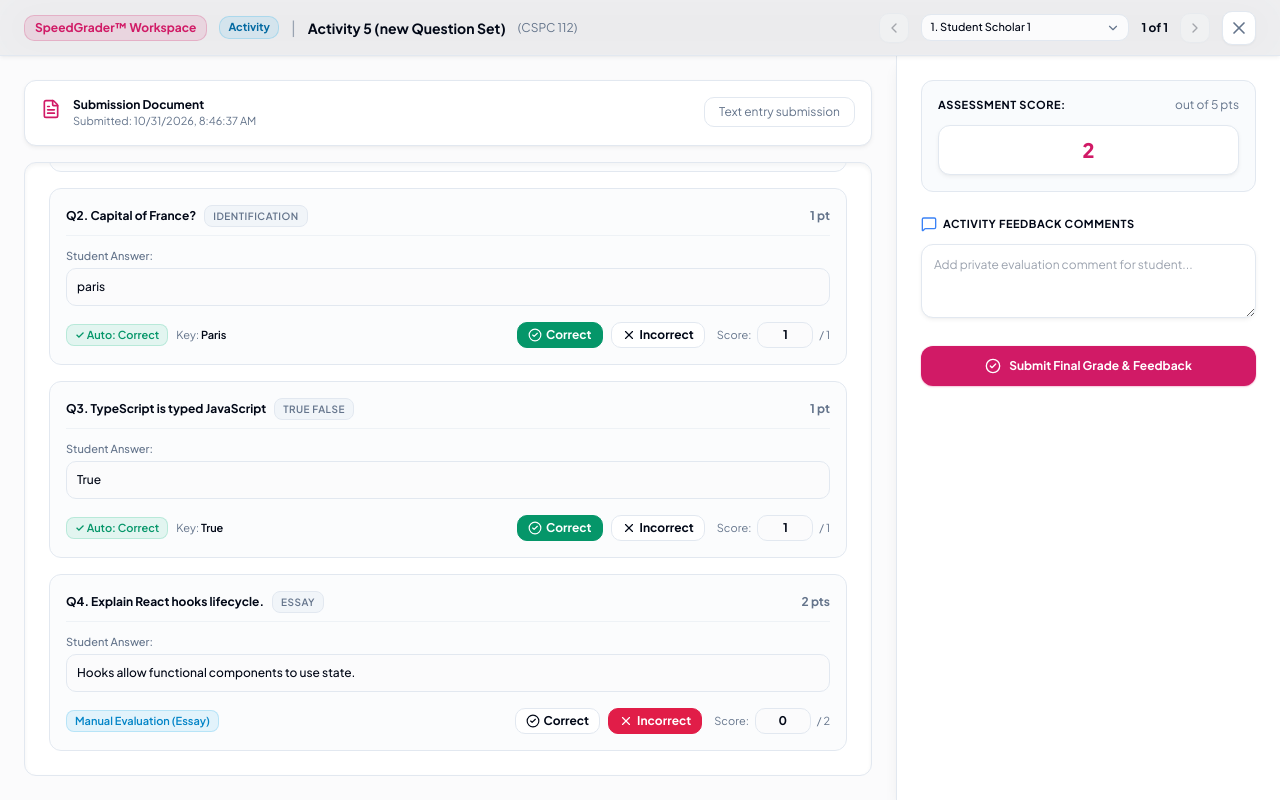
Scenario: SpeedGrader Question Set Grading & Correction › allows faculty to grade essay questions and awards custom points
(page scrolled)
# Q4 is an essay worth 2 pts. Faculty awards 2 points.
Replace the text in the number field with test id "question-score-input-q-4" with "2" at (783, 721), box left=755, top=708, right=811, bottom=734
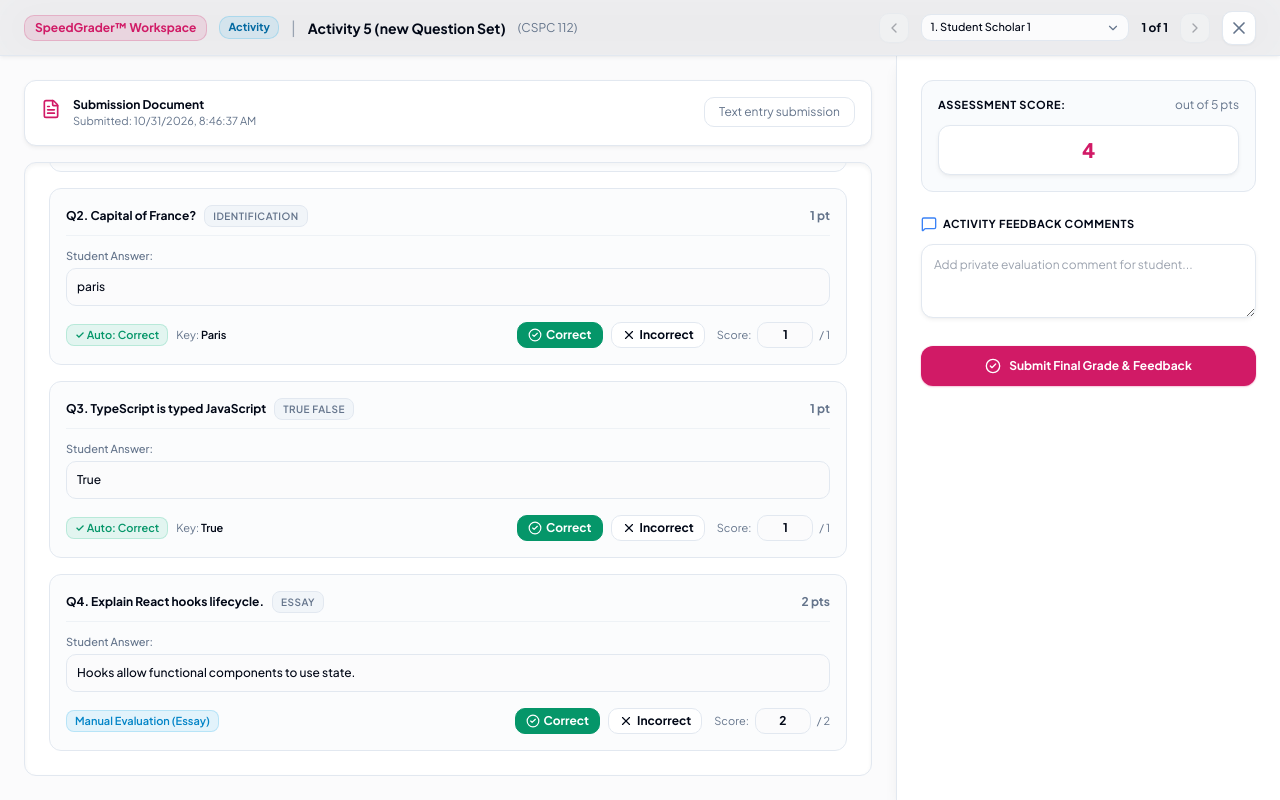
Check: the number field named "grade" holds "4", box left=938, top=125, right=1239, bottom=175
